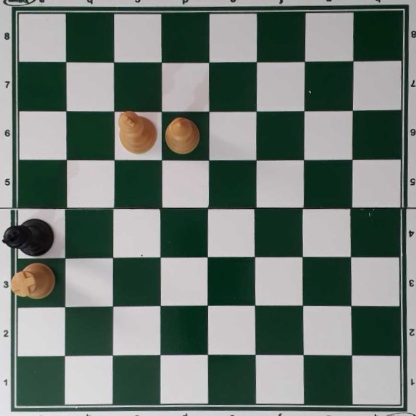black-king: (1, 218, 56, 258)
white-bishop: (164, 116, 199, 154)
white-king: (116, 110, 158, 153)
white-rook: (10, 263, 56, 299)
